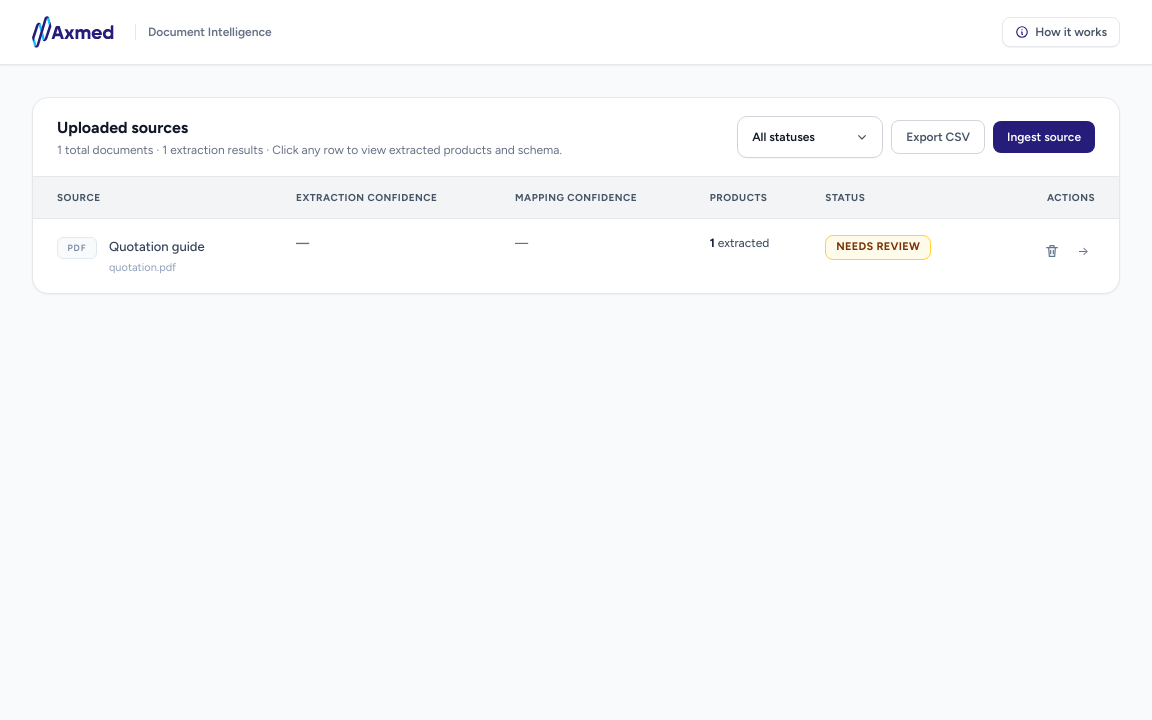
it: App › opens and closes the How It Works pipeline and confidence guide modal from header, home table, and detail view
The image size is (1152, 720).
expect the text "How It Works: Pipeline & Confidence Engine" is not shown: met
Open document to navigate to Source Detail page and verify no redundant button in Detail header
Click the button with class "group" showing "Quotation guide". click: (157, 247)
box: [109, 235, 205, 258]
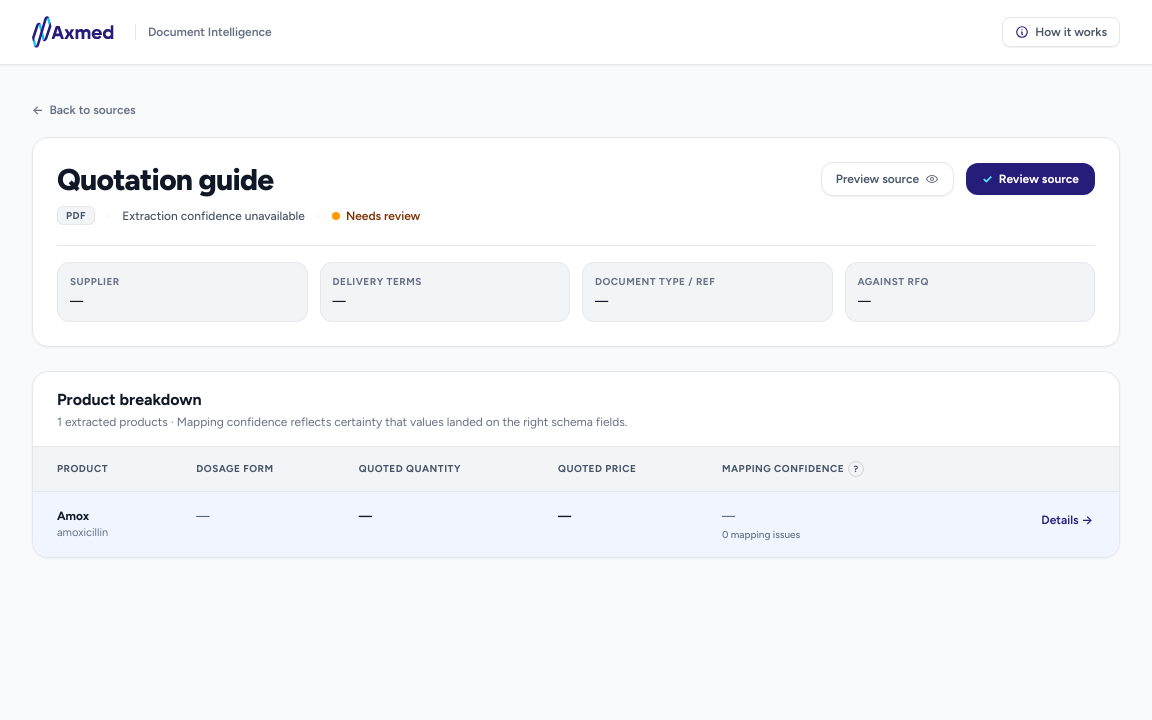
Open from the single global top header button
Click the button with id "how-it-works-btn". click: (1061, 32)
box: [1002, 17, 1120, 47]
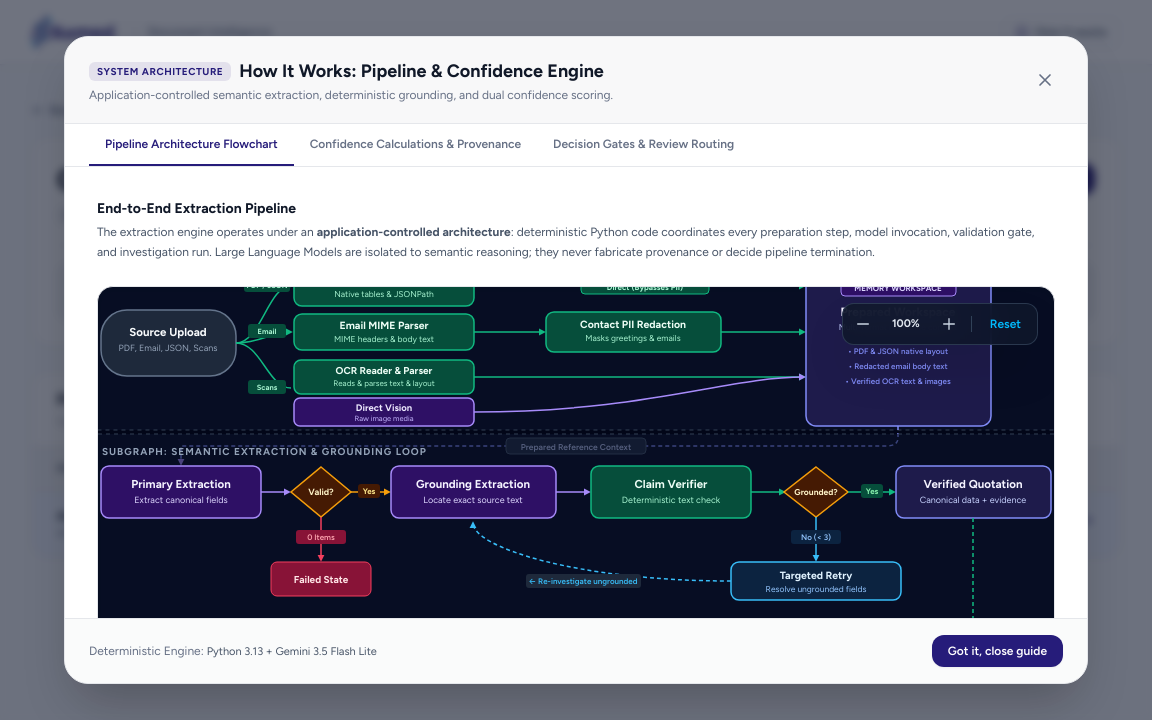
expect the text "How It Works: Pipeline & Confidence Engine" is shown: met, box [239, 57, 604, 85]
Switch to scoring tab
Click the button "Confidence Calculations & Provenance". click: (415, 145)
box: [294, 124, 537, 166]
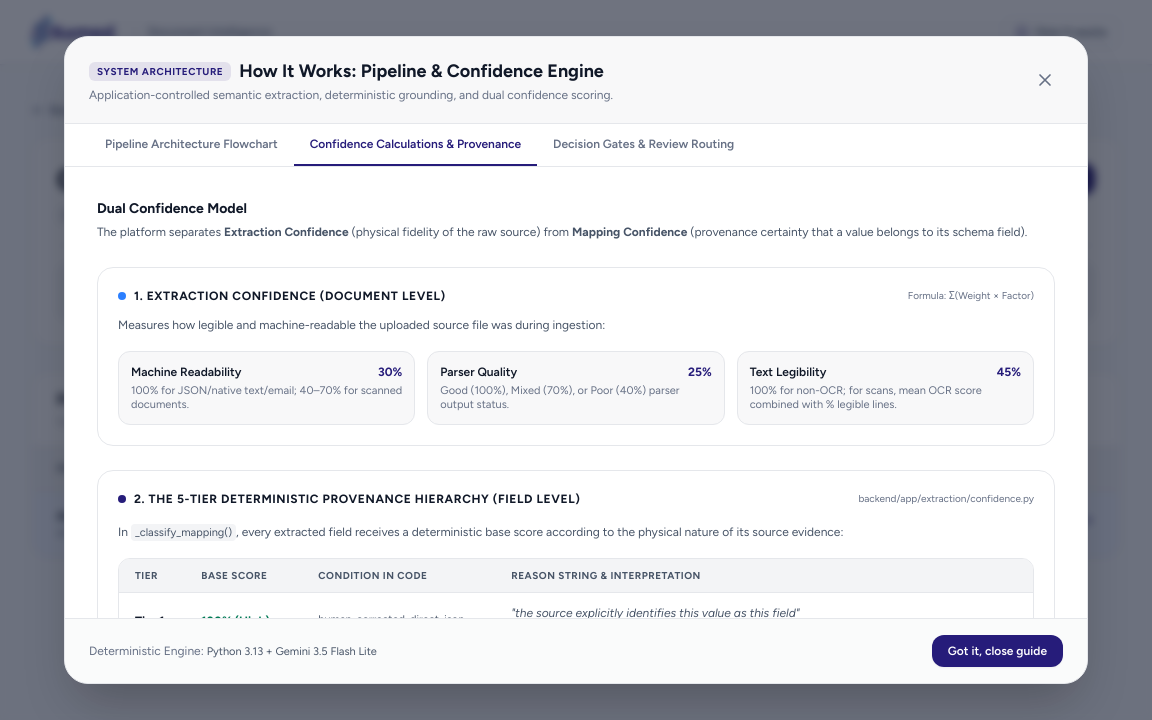
expect the text "The 5-Tier Deterministic Provenance Hierarchy" is shown: met, box [134, 492, 580, 506]
Close modal
Click the button "Got it, close guide". click: (997, 651)
box: [932, 635, 1063, 667]
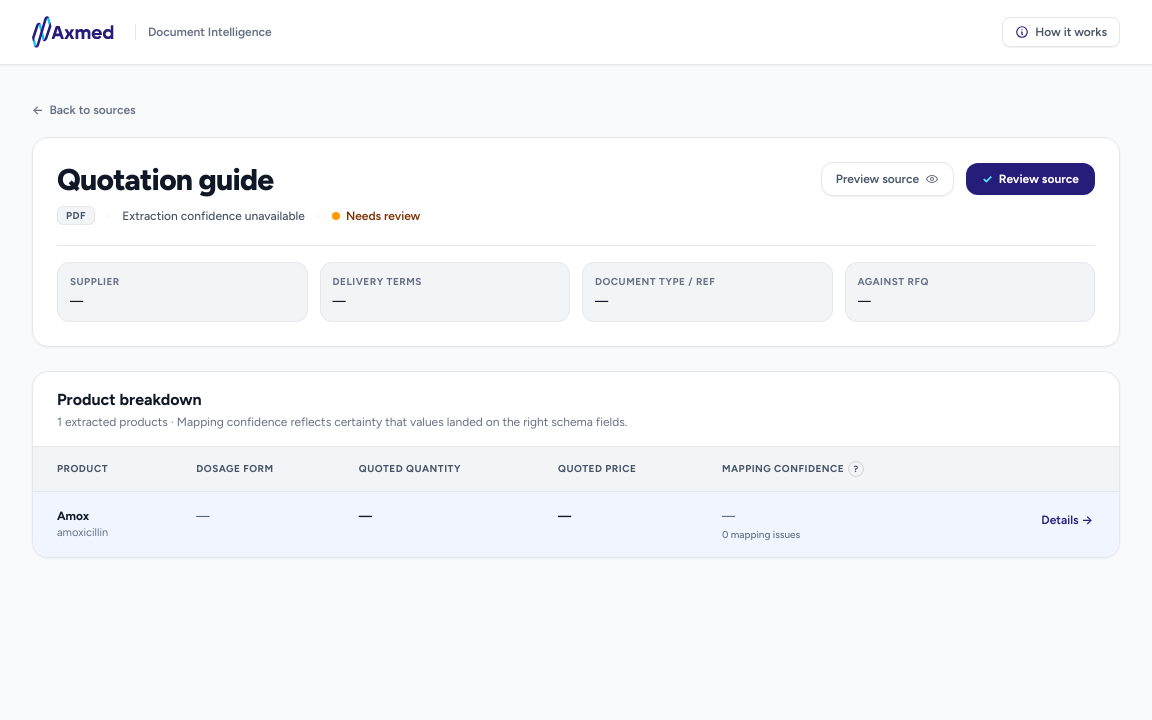
expect the text "How It Works: Pipeline & Confidence Engine" is gone: met
